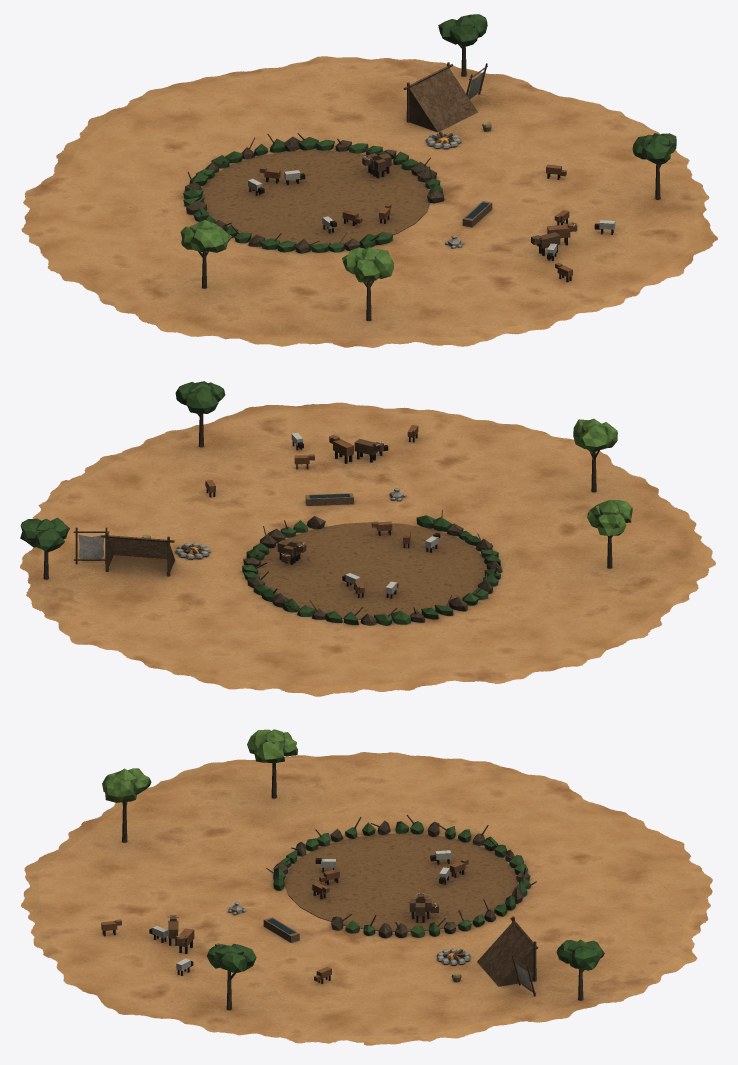
Rendered from pasture-stone.glb.
The picture shows the model from 3 angles, top to bottom: view 1: azimuth 30°, elevation 25°; view 2: azimuth 150°, elevation 25°; view 3: azimuth 270°, elevation 25°; orthographic projection.
Visible parts, largest first — view 1: LOD0; view 2: LOD0; view 3: LOD0.
Part boxes in pixels (<box>): LOD0: <box>21,14,717,347</box>; LOD0: <box>20,381,715,696</box>; LOD0: <box>21,729,712,1045</box>.
Size of what is drawn, in the model's own units: 4.74 by 0.5713 by 4.75.
2 materials, 2 textured.
